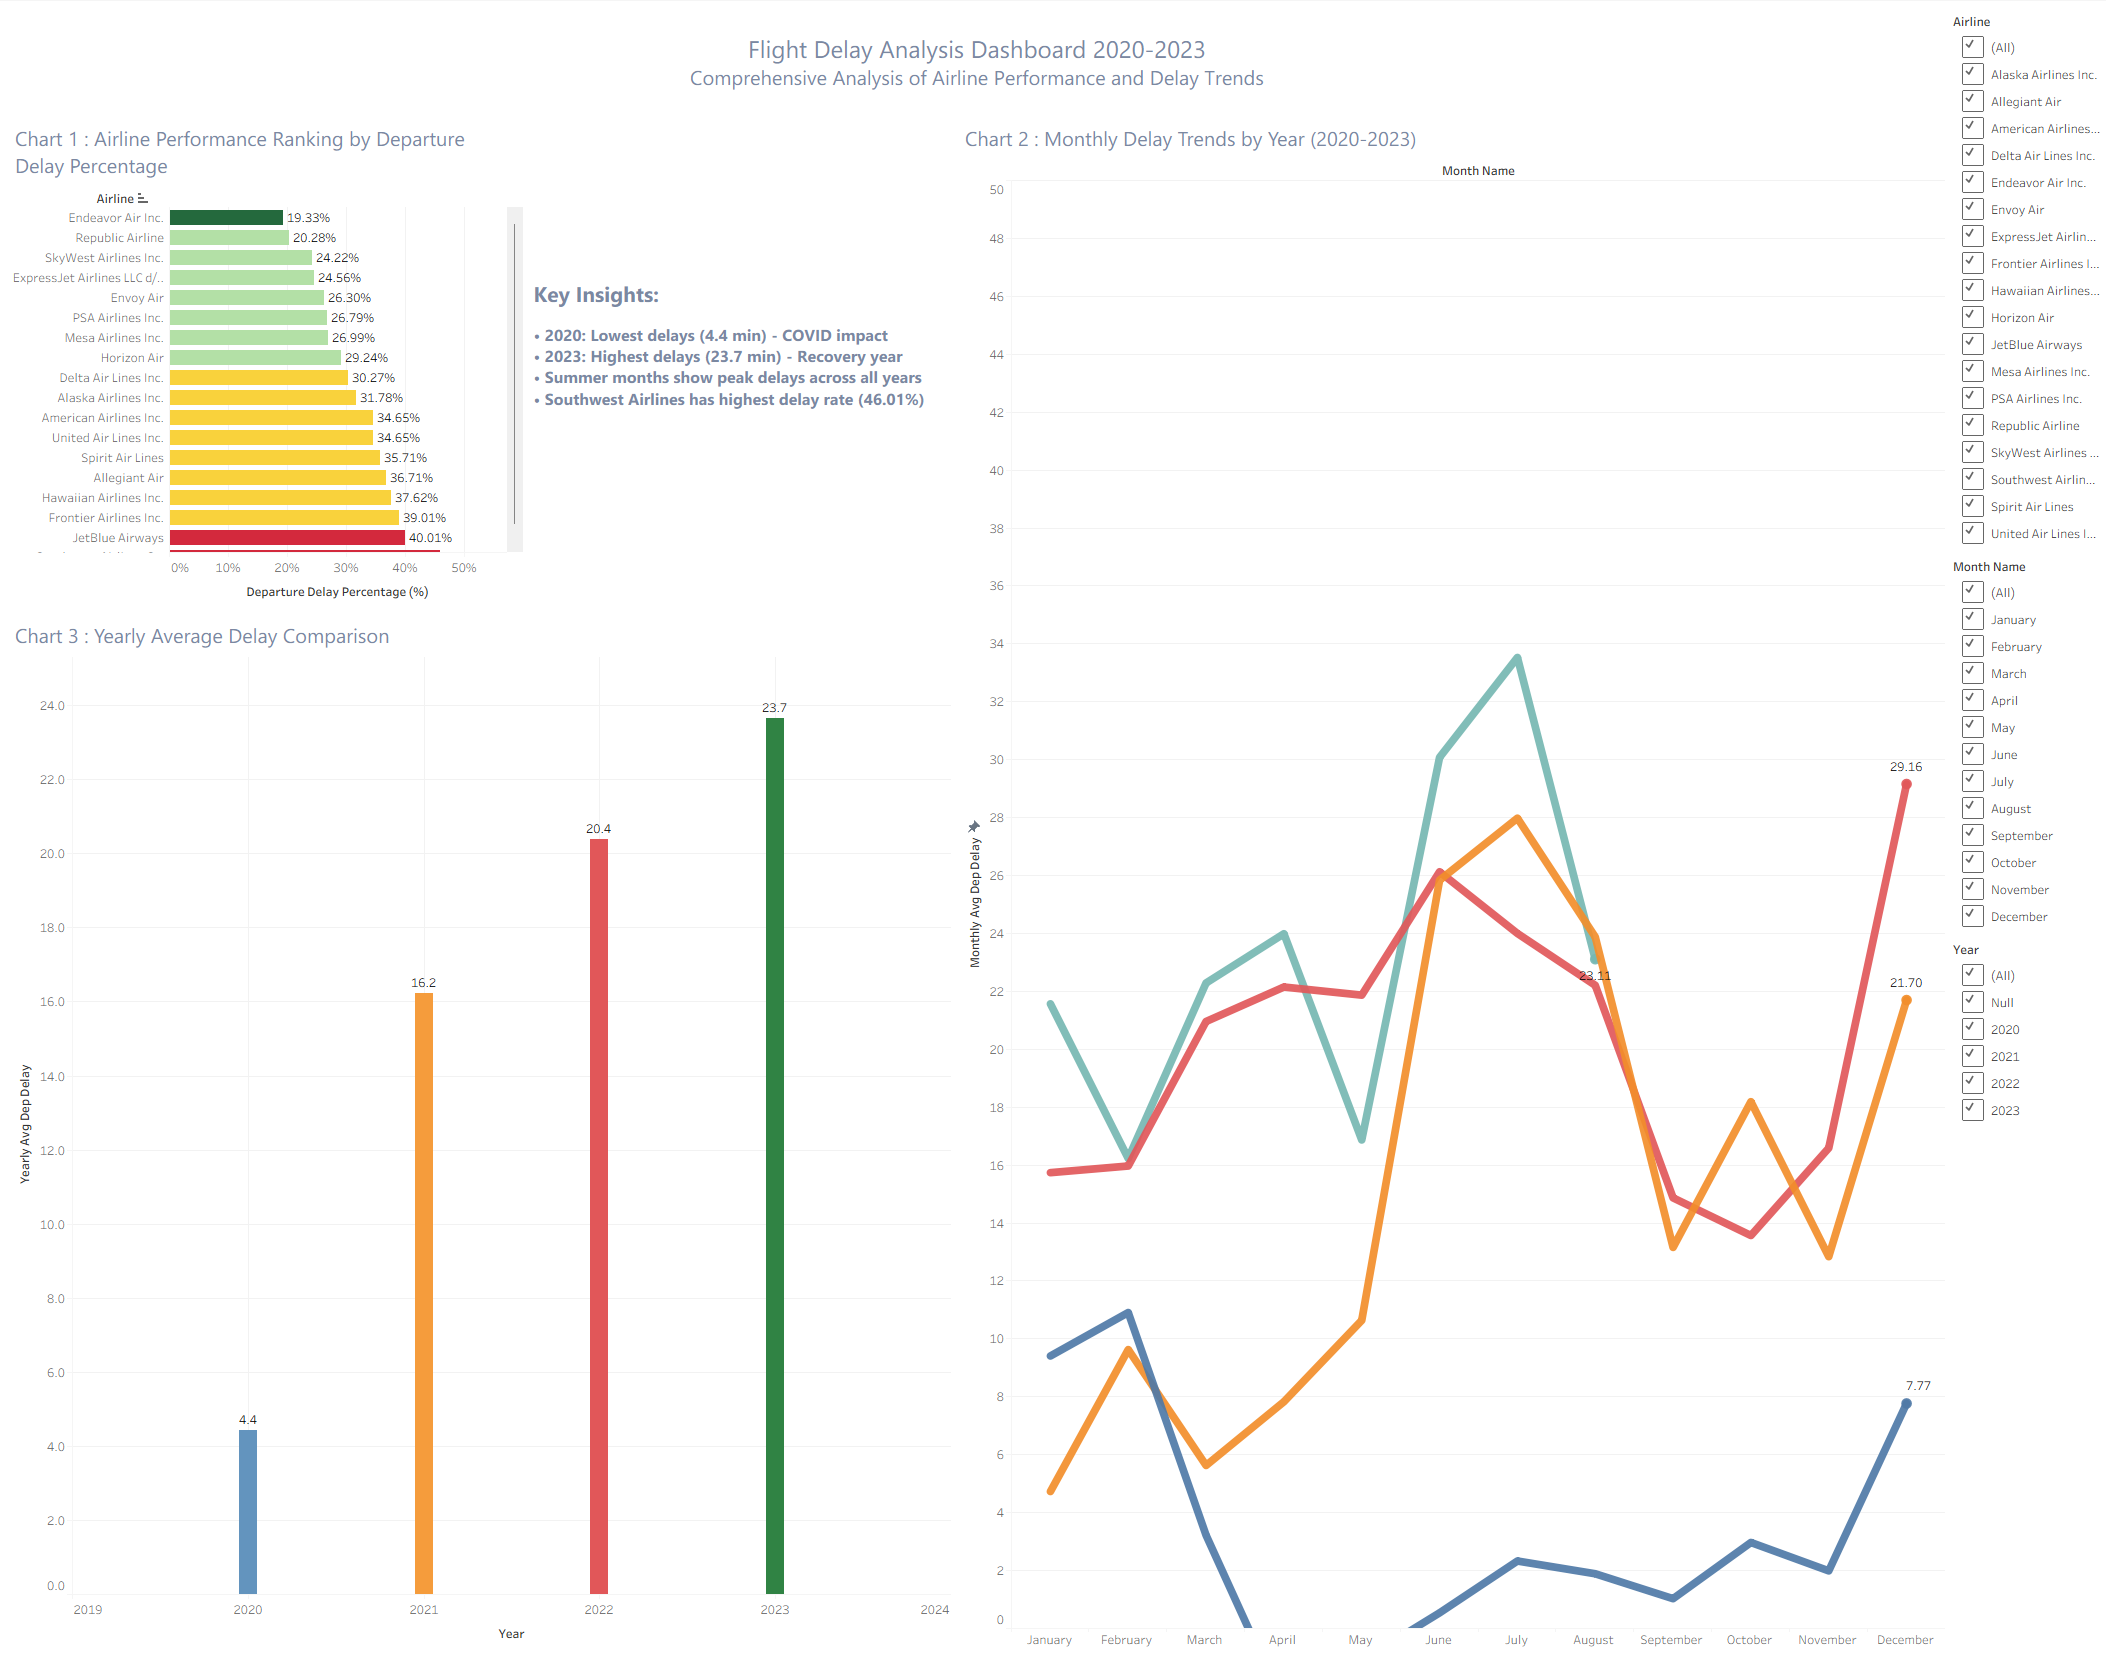

What the dashboard file says about the page in this screenshot:
{"tool":"tableau","page":{"name":"Dashboard 1","canvas":[1000,1000],"units":"permille","ordinal":0},"visuals":[{"type":"title","box":[3.8,4.8,917,63.2]},{"type":"filter","title":"Airline Performance Ranking","param":"[federated.0ljqamy0lk4knv1ganh4s02i4llw].[none:airline:nk]","box":[920.8,4.8,75.5,328.3]},{"type":"worksheet","title":"Airline Performance Ranking","mark":"Automatic","rows":["airline"],"cols":["departure_delay_percentage"],"box":[3.8,68.1,246.2,299.4]},{"type":"text","box":[250,68.1,201.8,299.4]},{"type":"worksheet","title":"Monthly Trends","mark":"Line","rows":["monthly_avg_dep_delay"],"cols":["month_name"],"box":[451.8,68.1,469,927.1]},{"type":"filter","title":"Monthly Trends","param":"[federated.1n5n8jo0qlraa313jkc8j1xrhjvc].[none:month_name:nk]","box":[920.8,333.1,75.5,230.7]},{"type":"worksheet","title":"Yearly Overview","mark":"Bar","rows":["yearly_avg_dep_delay"],"cols":["year"],"box":[3.8,367.5,448,627.7]},{"type":"filter","title":"Yearly Overview","param":"[federated.1r7ixh91q3atkw0zobw9o04hdq5a].[none:year:ok]","box":[920.8,563.9,75.5,116.9]}]}

Visuals, with their boxes on the dashboard's canvas, which has no fixed pixel size, in thousandths of its width and height (x1, y1, x2, y2). These are canvas units, not pixel positions in the 2106x1657 screenshot, which may show the page scaled, cropped or inside an application window:
title: (4,5,921,68)
"Airline Performance Ranking" filter: (921,5,996,333)
"Airline Performance Ranking" worksheet: (4,68,250,368)
text: (250,68,452,368)
"Monthly Trends" worksheet (Line marks): (452,68,921,995)
"Monthly Trends" filter: (921,333,996,564)
"Yearly Overview" worksheet (Bar marks): (4,368,452,995)
"Yearly Overview" filter: (921,564,996,681)
